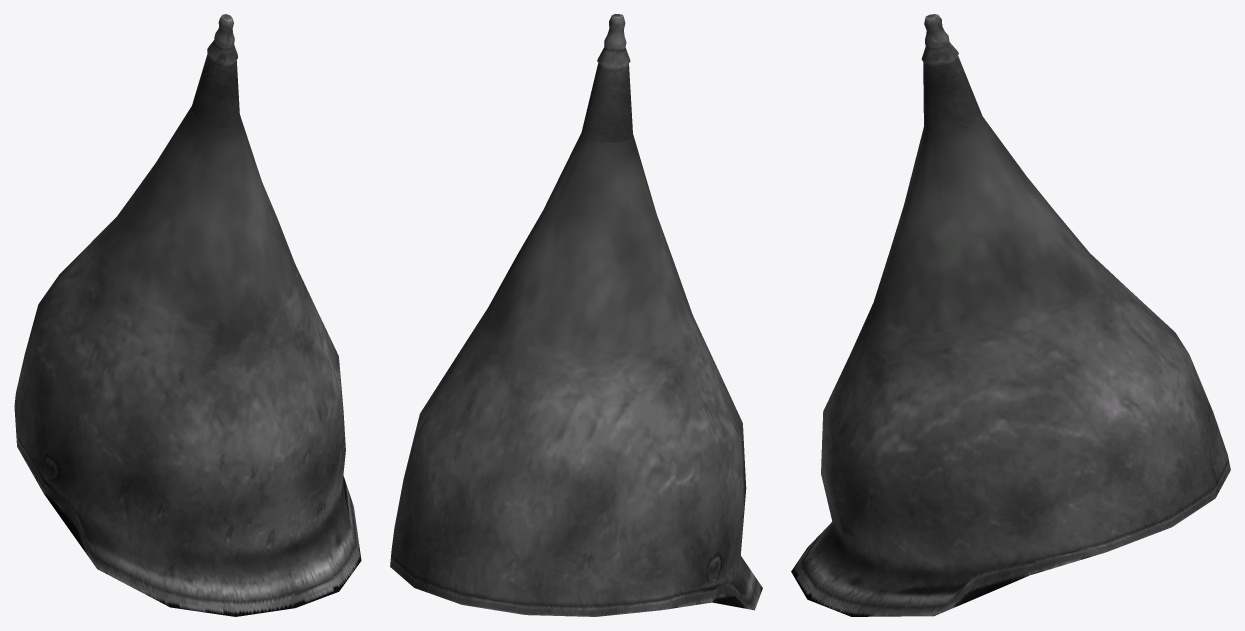
Rendered from helm_celt_helmet_berru_01.glb.
The picture shows the model from 3 angles, left to right: view 1: azimuth 30°, elevation 25°; view 2: azimuth 150°, elevation 25°; view 3: azimuth 270°, elevation 25°; orthographic projection. The views are drawn at different scales.
Parts seen in each view (by area): view 1: helm_celt_helmet_berru_01_part0; view 2: helm_celt_helmet_berru_01_part0; view 3: helm_celt_helmet_berru_01_part0.
Boxes of the visible parts, <box> form: helm_celt_helmet_berru_01_part0: <box>14,14,361,616</box>; helm_celt_helmet_berru_01_part0: <box>390,14,762,616</box>; helm_celt_helmet_berru_01_part0: <box>791,14,1230,616</box>.
Bounding box in the file's own units: 0.4279 × 0.8212 × 0.5865.
Materials: 1 (1 with a texture image).
